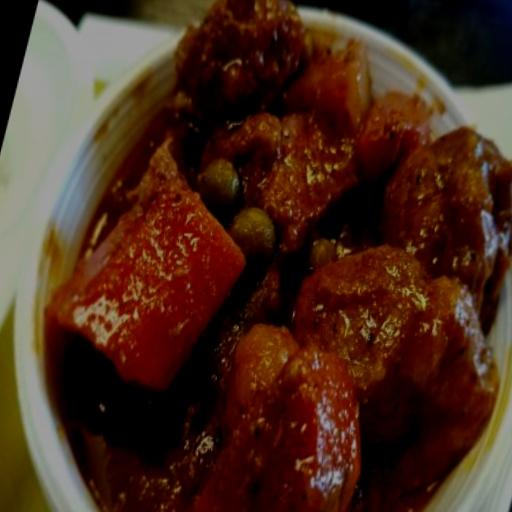pork caldereta: (83, 0, 511, 511)
